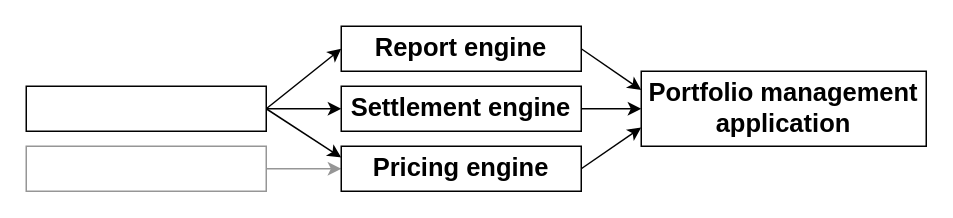
This 953x218 diagram has some shape labels left out. Each missing label, with the centre of its shape:
CDS pricing library: pixel 145 168
Framework: pixel 145 108
